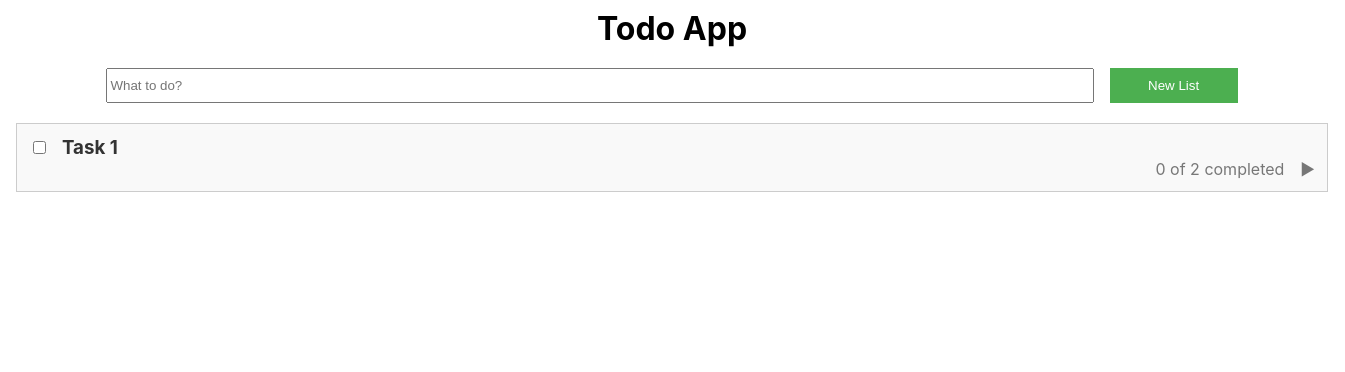
Test case: TodoList component test › shows and hides subtasks when clicking the accordion icon
The width and height of the screenshot is (1345, 372).
Check: the heading "Task 1" is shown, box 62,136 -> 118,159
Click the text "▶" at (1308, 169), box 1300,159 -> 1315,179
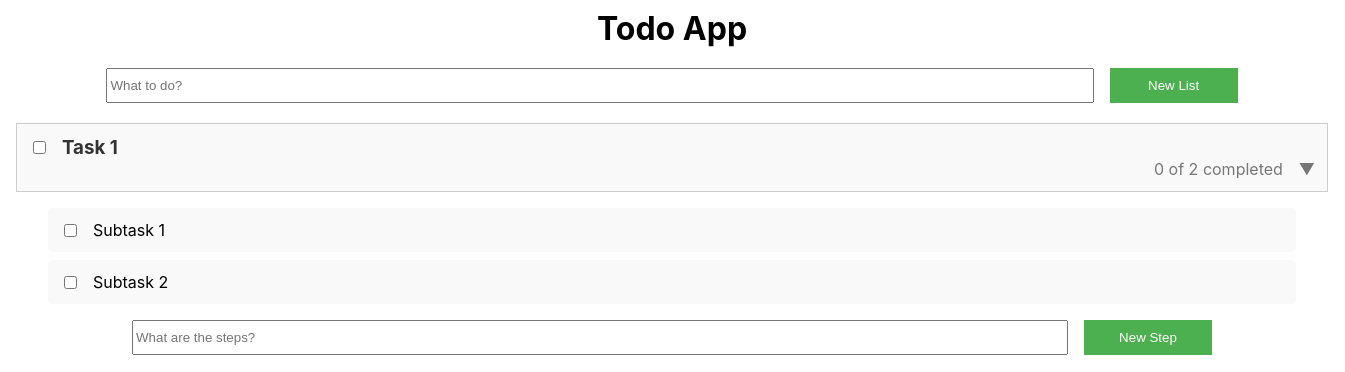
Check: the text "Subtask 1" is shown, box 93,220 -> 165,240
Check: the text "Subtask 2" is shown, box 93,272 -> 168,292
Click the text "▼" at (1307, 169), box 1299,159 -> 1315,179
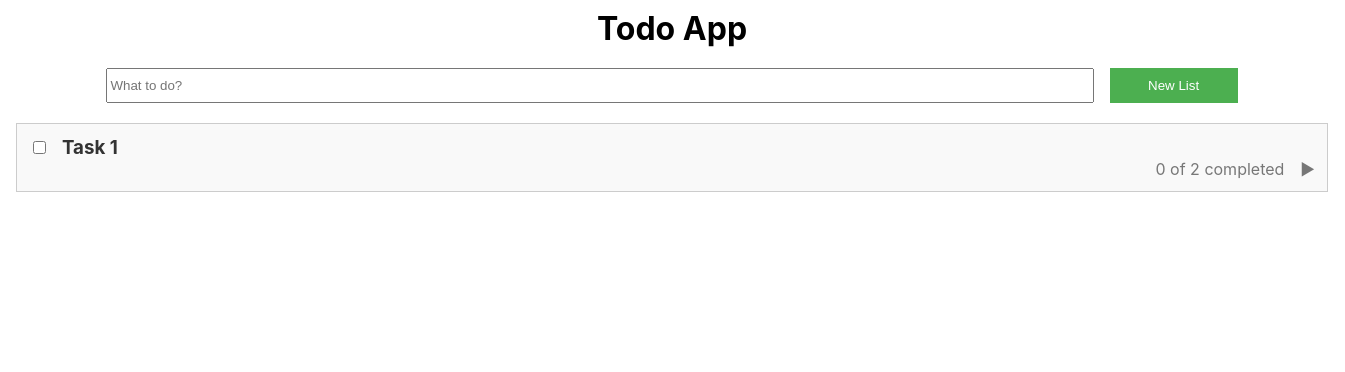
Check: the text "Subtask 1" is gone
Check: the text "Subtask 2" is gone
